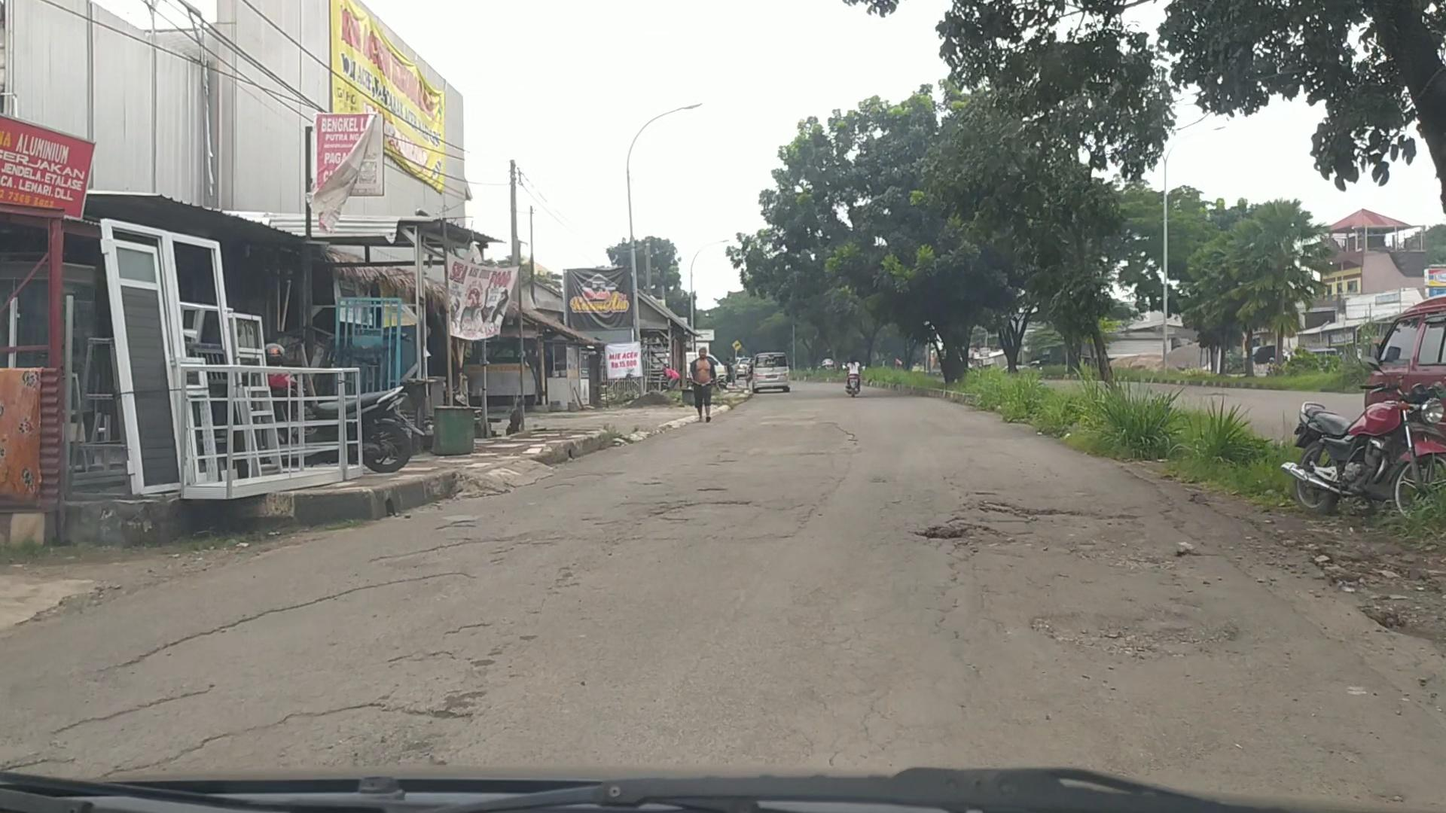pothole: (1027, 603, 1237, 656), (978, 497, 1137, 524), (911, 517, 1004, 542)
